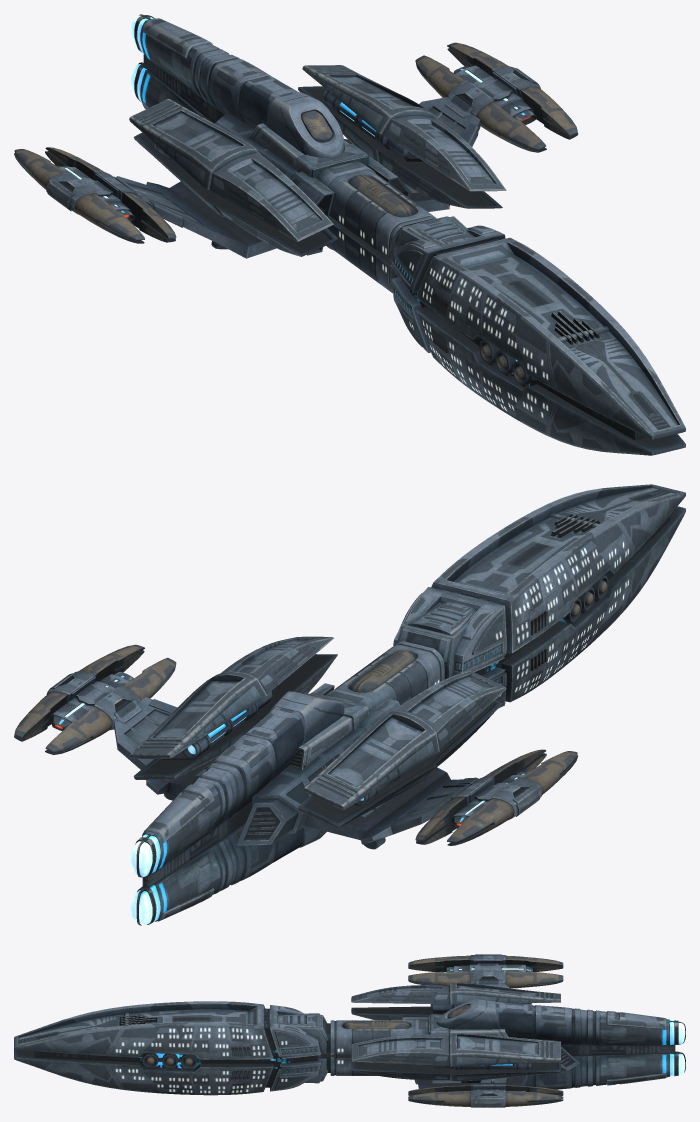
File: premium3.gltf
The picture shows the model from 3 angles, top to bottom: view 1: azimuth 30°, elevation 25°; view 2: azimuth 150°, elevation 25°; view 3: azimuth 270°, elevation 25°; orthographic projection. The views are drawn at different scales.
Visible parts, largest first — view 1: Andorian_Cruiser; view 2: Andorian_Cruiser; view 3: Andorian_Cruiser.
Part boxes in pixels (box(x1,y1,x2,y2)): Andorian_Cruiser: box(14, 14, 685, 455); Andorian_Cruiser: box(14, 484, 685, 925); Andorian_Cruiser: box(14, 954, 685, 1107).
Bounding box in the file's own units: 372 × 107 × 726.
Materials: 1 (1 with a texture image).
